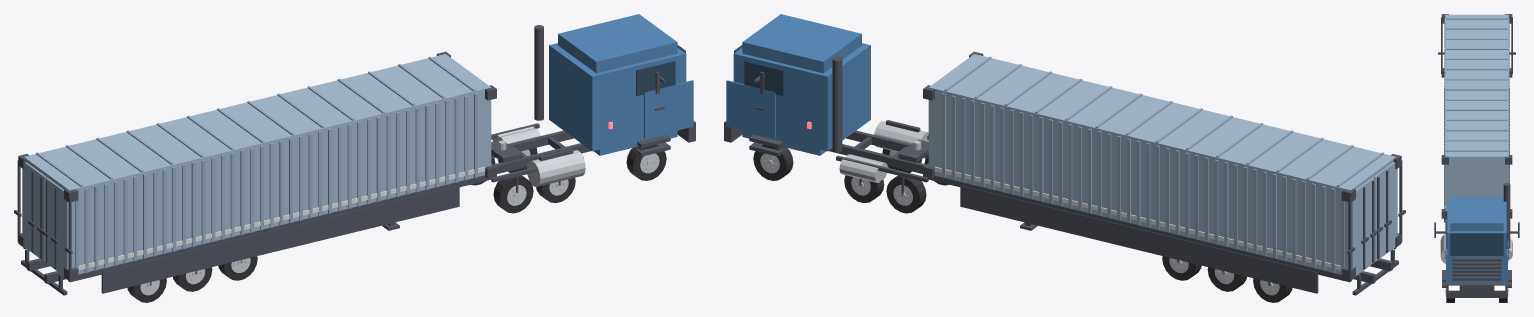
File: truck-v4.glb
The picture shows the model from 3 angles, left to right: view 1: azimuth 30°, elevation 25°; view 2: azimuth 150°, elevation 25°; view 3: azimuth 270°, elevation 25°; orthographic projection. The views are drawn at different scales.
Visible parts, largest first — view 1: GEO-truck_cont, GEO-truck_rib, GEO-truck_chassis, GEO-truck_body, GEO-truck_tire, GEO-truck_steel, GEO-truck_hub, GEO-truck_tape, GEO-truck_glass; view 2: GEO-truck_cont, GEO-truck_rib, GEO-truck_chassis, GEO-truck_body, GEO-truck_tire, GEO-truck_steel, GEO-truck_hub, GEO-truck_tape, GEO-truck_glass; view 3: GEO-truck_cont, GEO-truck_chassis, GEO-truck_body, GEO-truck_rib, GEO-truck_glass, GEO-truck_steel, GEO-truck_lamp, GEO-truck_tire.
Part boxes in pixels (x1,y1,x2,y2): GEO-truck_cont: (22,54,491,275); GEO-truck_rib: (36,56,477,274); GEO-truck_chassis: (14,25,695,295); GEO-truck_body: (549,14,693,155); GEO-truck_tire: (127,144,666,302); GEO-truck_steel: (492,126,585,186); GEO-truck_hub: (140,149,659,295); GEO-truck_tape: (79,166,485,270); GEO-truck_glass: (636,45,685,95); GEO-truck_cont: (928,54,1397,275); GEO-truck_rib: (942,56,1383,274); GEO-truck_chassis: (724,51,1405,295); GEO-truck_body: (726,14,870,155); GEO-truck_tire: (753,144,1292,302); GEO-truck_steel: (839,121,928,182); GEO-truck_hub: (760,150,1279,295); GEO-truck_tape: (934,166,1340,270); GEO-truck_glass: (734,45,783,95); GEO-truck_cont: (1445,14,1508,210); GEO-truck_chassis: (1434,14,1519,297); GEO-truck_body: (1446,196,1507,286); GEO-truck_rib: (1444,17,1509,208); GEO-truck_glass: (1446,219,1507,255); GEO-truck_steel: (1440,234,1512,263); GEO-truck_lamp: (1448,285,1505,298); GEO-truck_tire: (1446,288,1507,302).
Size of the model in its own units: 19.64 by 4.04 by 3.3.
